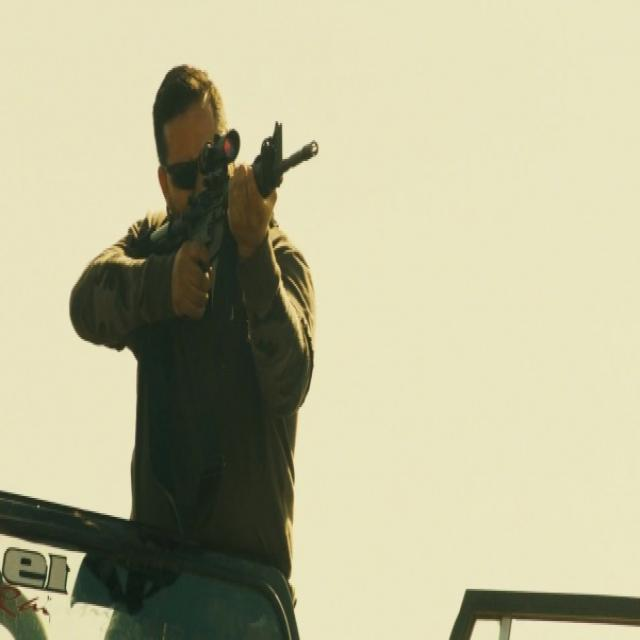rifle: (141, 123, 321, 330)
